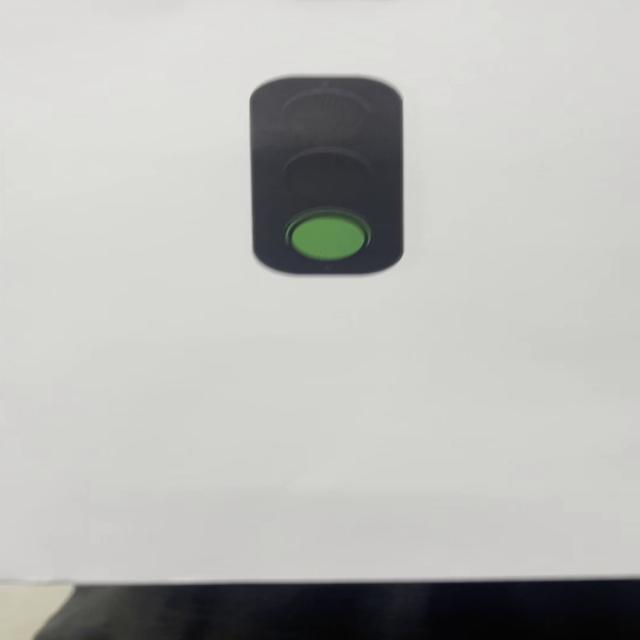green: (250, 77, 404, 277)
